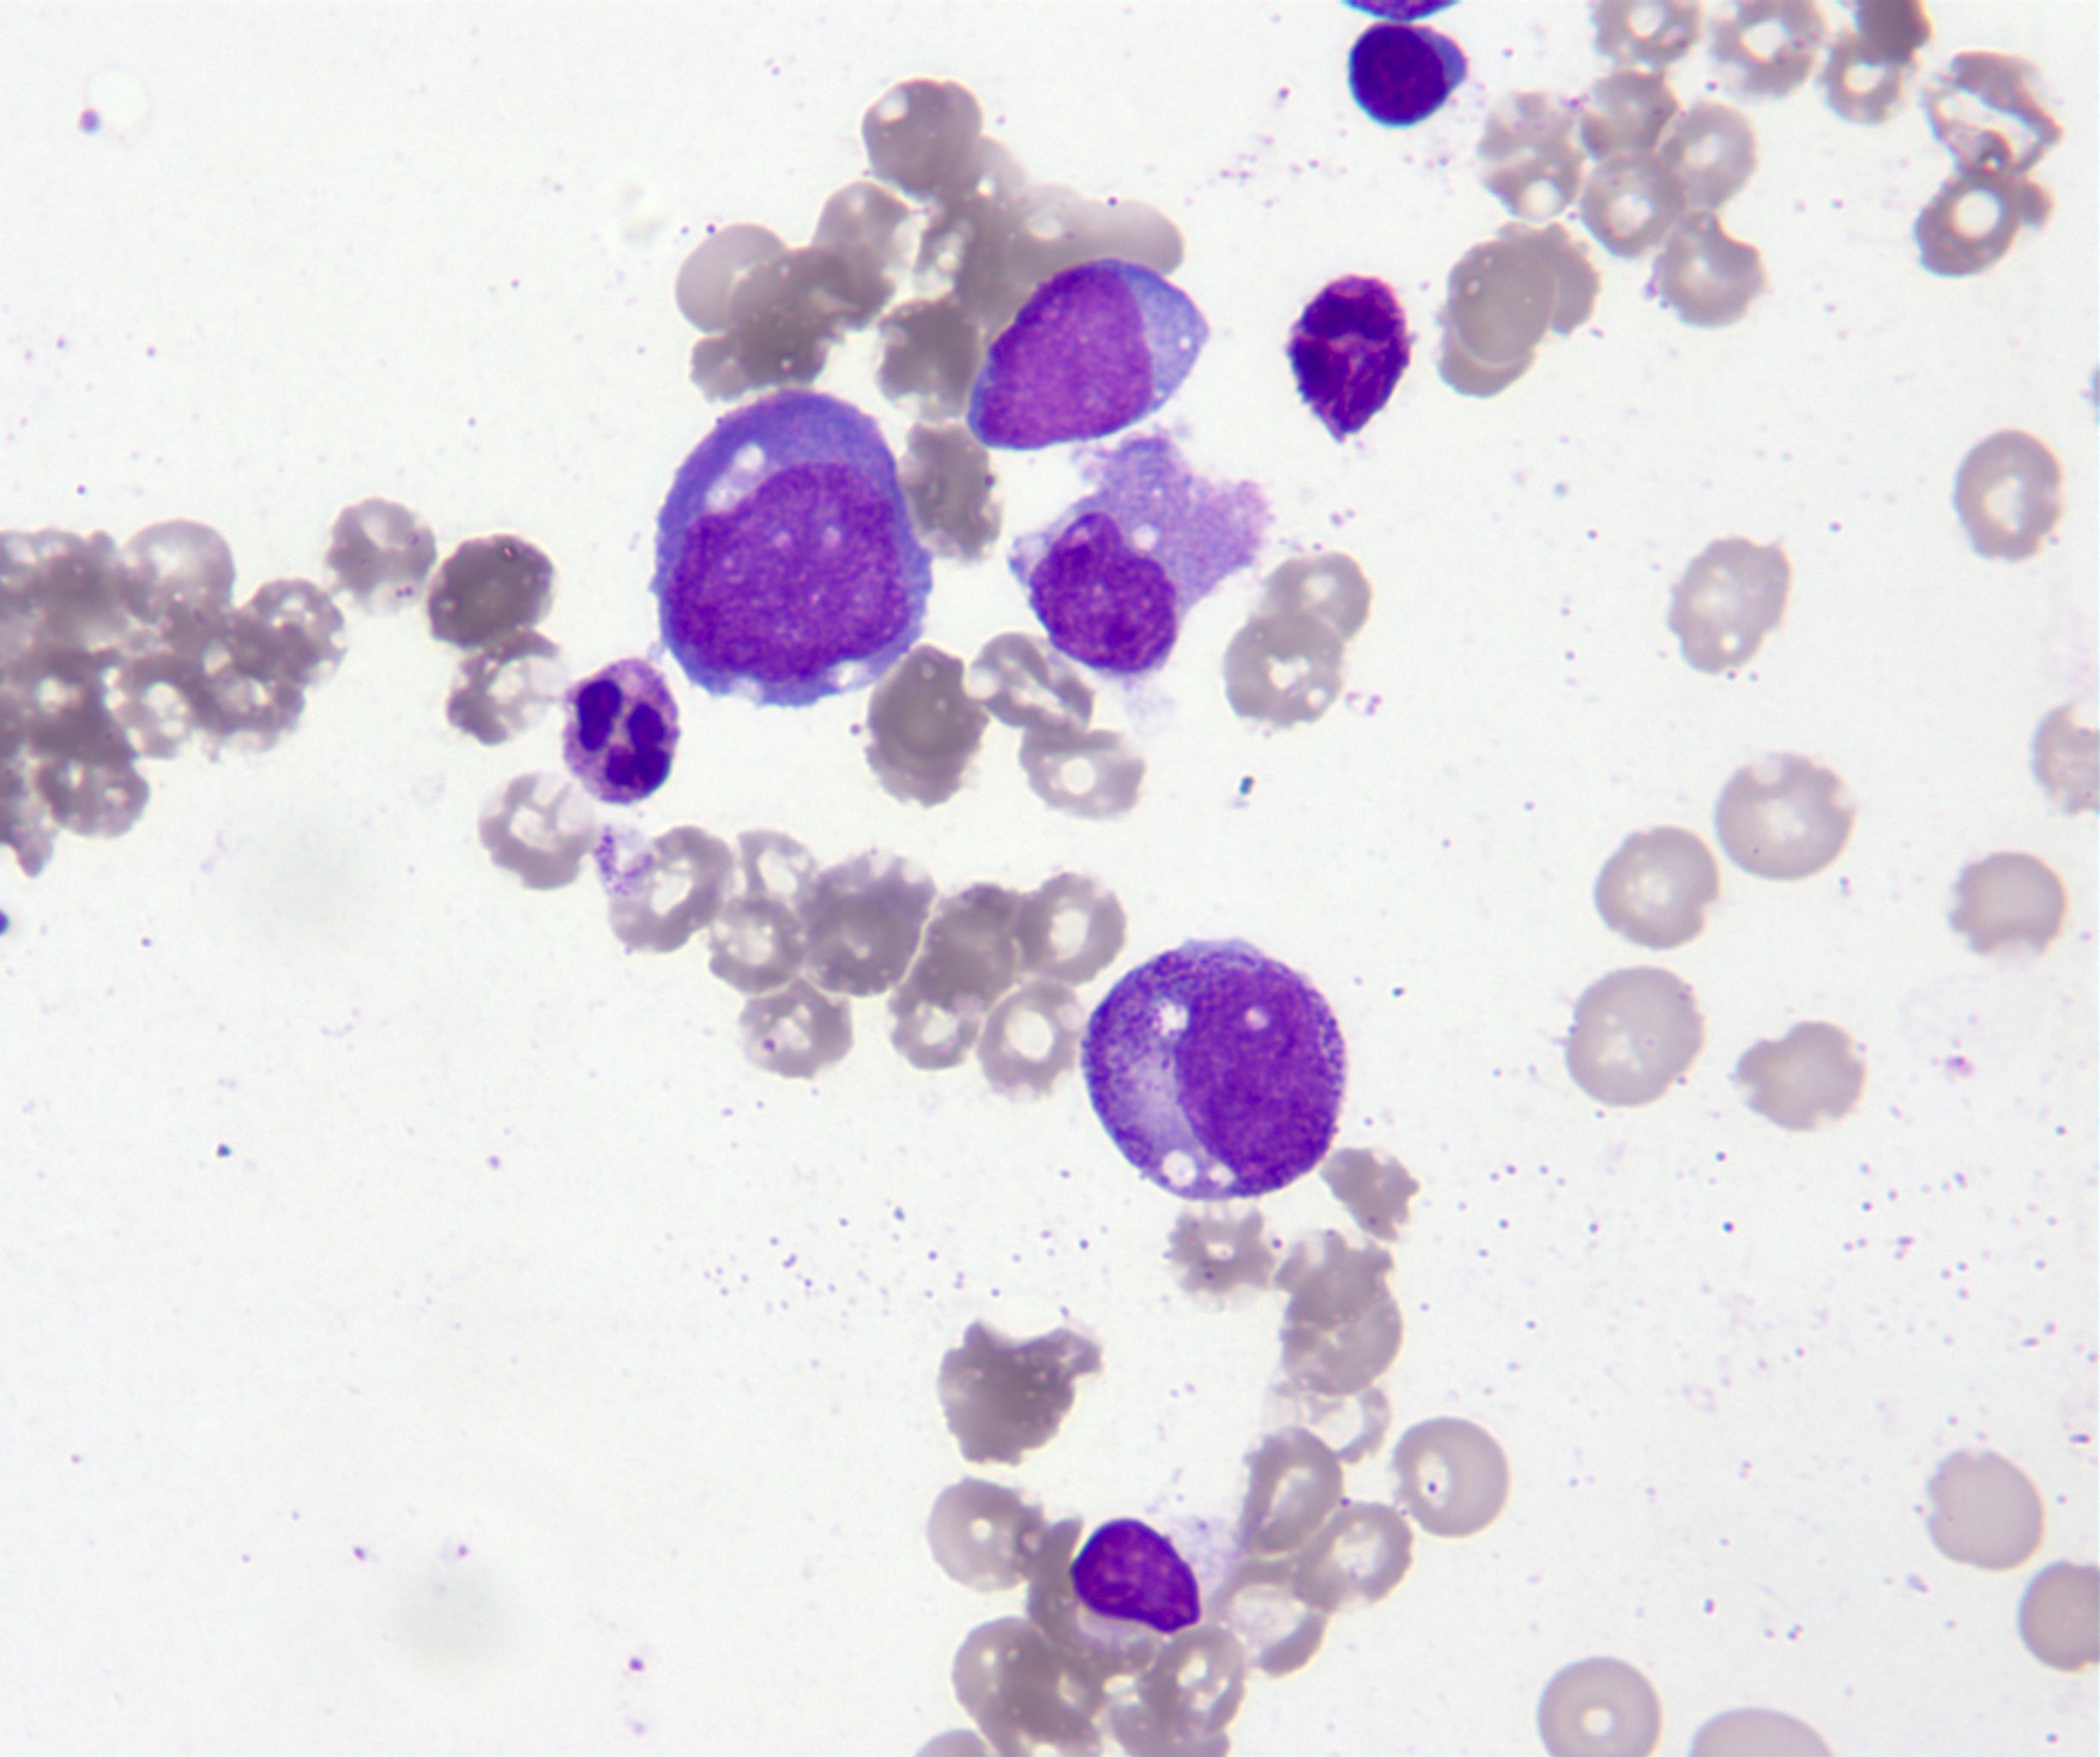1: (963, 251, 1217, 459)
2: (640, 384, 945, 717)
3: (1074, 932, 1352, 1207)
32: (1340, 19, 1470, 134)
42: (1008, 501, 1190, 680)
6: (1280, 265, 1418, 448), (555, 656, 687, 810)
x: (1059, 1509, 1207, 1647)
